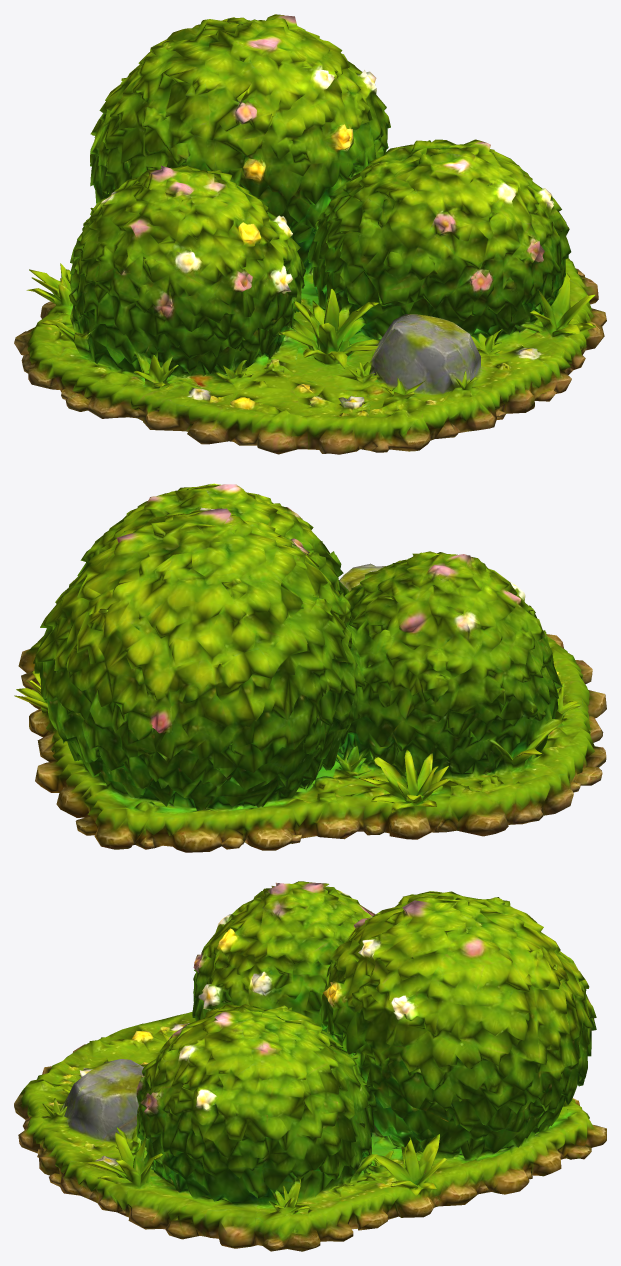
Rendered from Flowering bush trio.glb.
The picture shows the model from 3 angles, top to bottom: view 1: azimuth 30°, elevation 25°; view 2: azimuth 150°, elevation 25°; view 3: azimuth 270°, elevation 25°; orthographic projection. The views are drawn at different scales.
Bounding box in the file's own units: 1.86 × 0.8321 × 1.9.
Materials: 1 (1 with a texture image).
